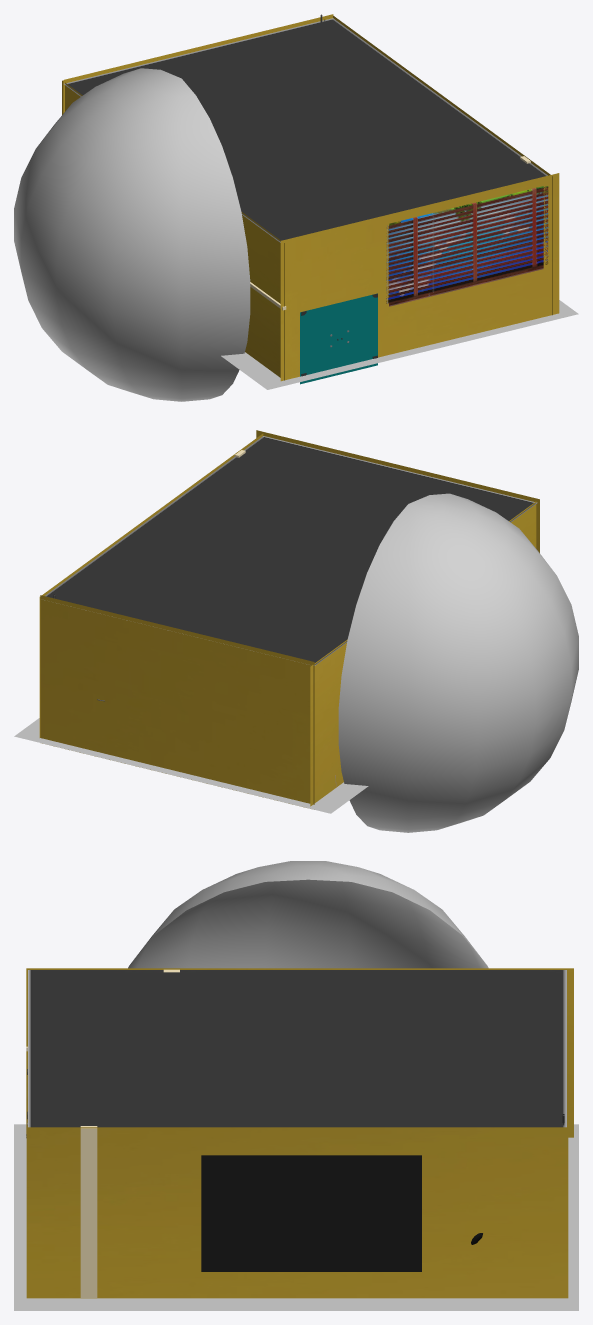
File: Garage_Yo.fbx
3 renders of one model, top to bottom at view 1: azimuth 30°, elevation 25°; view 2: azimuth 150°, elevation 25°; view 3: azimuth 270°, elevation 25°, orthographic. The views are drawn at different scales.
Visible parts, largest first — view 1: pSphere1, polySurface793, polySurface1056, polySurface1057, polySurface1060, pPlane1, pPlane3, polySurface1051, pPlane2; view 2: pSphere1, polySurface793, polySurface1051, pPlane1, pPlane3, polySurface1056, pPlane2; view 3: polySurface793, pPlane2, pSphere1, polySurface953, pPlane3, polySurface968, pPlane1.
Boxes of the visible parts, x1=… form: pSphere1: x1=14, y1=68, x2=250, y2=401; polySurface793: x1=64, y1=18, x2=547, y2=242; polySurface1056: x1=280, y1=173, x2=559, y2=381; polySurface1057: x1=386, y1=186, x2=548, y2=306; polySurface1060: x1=300, y1=293, x2=377, y2=384; pPlane1: x1=62, y1=80, x2=284, y2=380; pPlane3: x1=221, y1=300, x2=578, y2=389; polySurface1051: x1=63, y1=14, x2=333, y2=113; pPlane2: x1=333, y1=15, x2=552, y2=315; pSphere1: x1=338, y1=493, x2=578, y2=832; polySurface793: x1=44, y1=436, x2=537, y2=665; polySurface1051: x1=40, y1=595, x2=314, y2=807; pPlane1: x1=310, y1=501, x2=536, y2=806; pPlane3: x1=14, y1=718, x2=368, y2=813; polySurface1056: x1=256, y1=430, x2=539, y2=552; pPlane2: x1=39, y1=433, x2=263, y2=737; polySurface793: x1=28, y1=970, x2=566, y2=1127; pPlane2: x1=26, y1=1127, x2=568, y2=1298; pSphere1: x1=128, y1=861, x2=488, y2=968; polySurface953: x1=201, y1=1155, x2=421, y2=1271; pPlane3: x1=14, y1=1124, x2=578, y2=1310; polySurface968: x1=80, y1=1126, x2=97, y2=1297; pPlane1: x1=26, y1=968, x2=573, y2=1137.
Size of the model in its own units: 0.3158 by 0.2207 by 0.2992.
